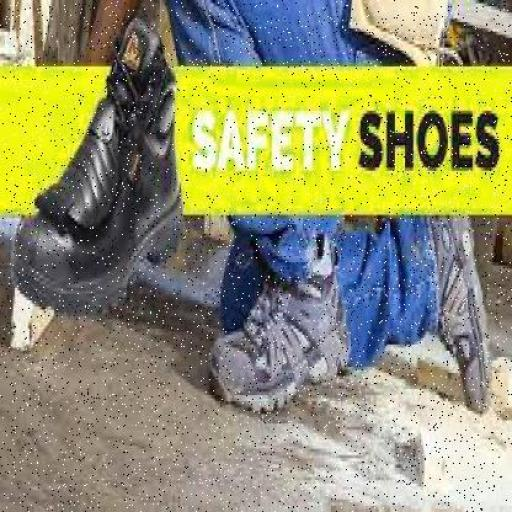safety_shoe: (216, 253, 348, 418), (423, 196, 496, 419)
